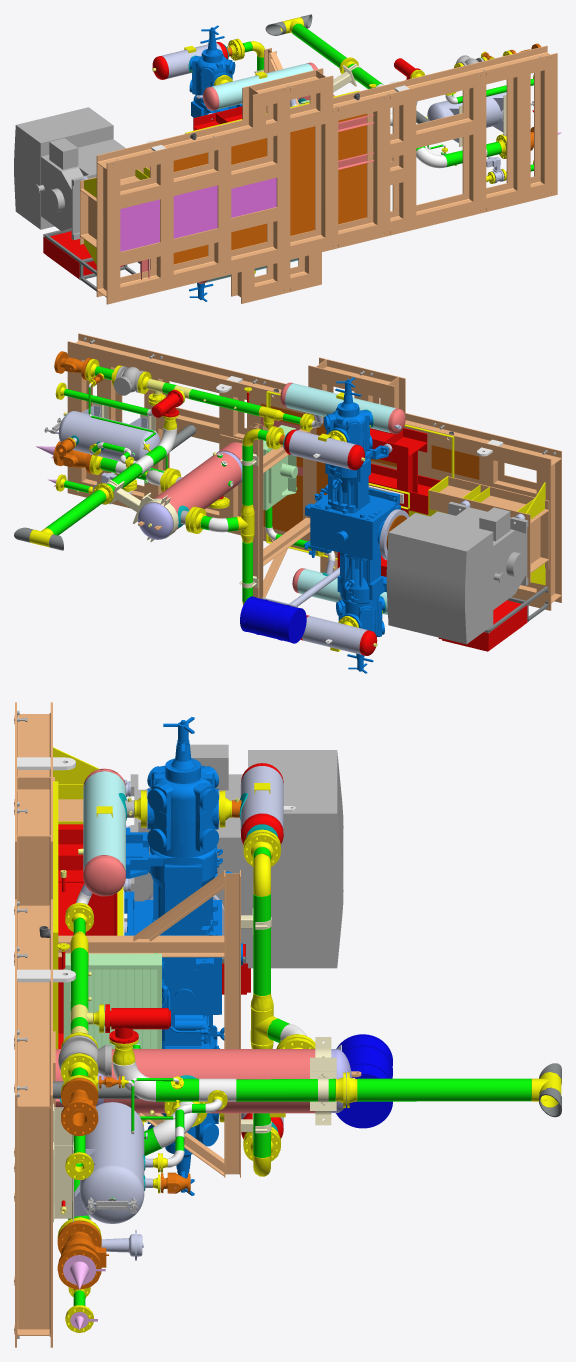
Rendered from booster_skid.glb.
The picture shows the model from 3 angles, top to bottom: view 1: azimuth 30°, elevation 25°; view 2: azimuth 150°, elevation 25°; view 3: azimuth 270°, elevation 25°; orthographic projection. The views are drawn at different scales.
Parts seen in each view (by area): view 1: FACE2529, FACE2381, FACE3225, FACE3384, FACE3680, FACE3099, FACE, FACE4301, FACE2494, FACE8479, FACE3282, FACE12131 (+3 smaller); view 2: FACE2529, FACE2381, FACE, FACE3099, FACE3680, FACE4301, FACE3225, FACE7076, FACE3282, FACE2494, FACE8479, FACE12377 (+6 smaller); view 3: FACE2529, FACE2381, FACE, FACE3099, FACE4301, FACE3282, FACE3680, FACE2494, FACE11977, FACE4196, FACE3225, FACE11096 (+5 smaller).
Part boxes in pixels (bbox=[...]): FACE2529: bbox=[80, 45, 557, 304]; FACE2381: bbox=[14, 55, 540, 299]; FACE3225: bbox=[173, 43, 541, 264]; FACE3384: bbox=[120, 178, 276, 251]; FACE3680: bbox=[43, 42, 533, 279]; FACE3099: bbox=[84, 17, 533, 273]; FACE: bbox=[189, 25, 242, 301]; FACE4301: bbox=[242, 23, 533, 171]; FACE2494: bbox=[427, 92, 506, 183]; FACE8479: bbox=[205, 63, 313, 282]; FACE3282: bbox=[140, 62, 374, 283]; FACE12131: bbox=[43, 14, 430, 291]; FACE2529: bbox=[67, 333, 561, 610]; FACE2381: bbox=[44, 337, 555, 644]; FACE: bbox=[304, 377, 400, 673]; FACE3099: bbox=[29, 358, 545, 651]; FACE3680: bbox=[151, 390, 527, 655]; FACE4301: bbox=[45, 366, 409, 602]; FACE3225: bbox=[53, 351, 479, 624]; FACE7076: bbox=[131, 414, 525, 654]; FACE3282: bbox=[58, 382, 405, 593]; FACE2494: bbox=[58, 405, 408, 560]; FACE8479: bbox=[285, 383, 395, 614]; FACE12377: bbox=[240, 596, 306, 643]; FACE2529: bbox=[14, 702, 361, 1347]; FACE2381: bbox=[14, 710, 343, 1338]; FACE: bbox=[124, 717, 242, 1195]; FACE3099: bbox=[53, 747, 561, 1332]; FACE4301: bbox=[68, 847, 531, 1305]; FACE3282: bbox=[55, 768, 315, 1192]; FACE3680: bbox=[58, 763, 283, 1210]; FACE2494: bbox=[74, 893, 224, 1291]; FACE11977: bbox=[63, 953, 161, 1048]; FACE4196: bbox=[17, 757, 306, 1220]; FACE3225: bbox=[57, 800, 241, 1289]; FACE11096: bbox=[53, 908, 336, 1222].
Bounding box in the file's own units: 9.4 × 5.03 × 5.2.
